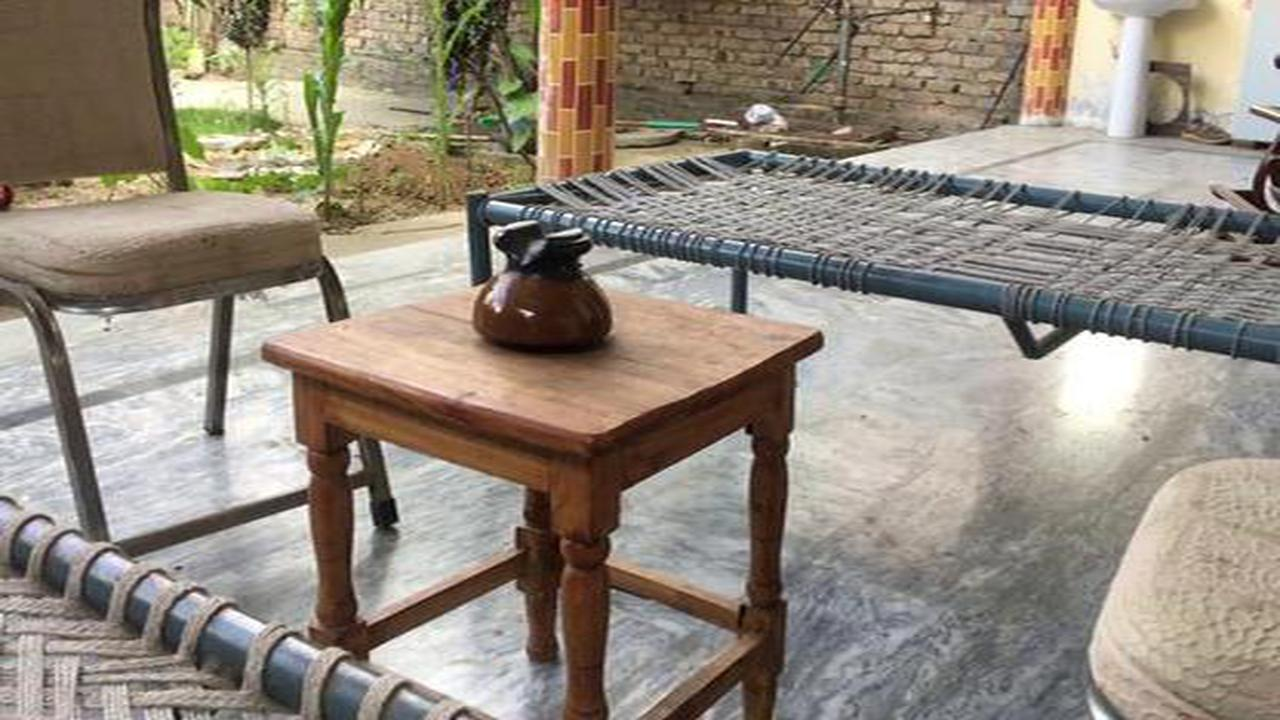insulator_pin: (456, 205, 631, 371)
